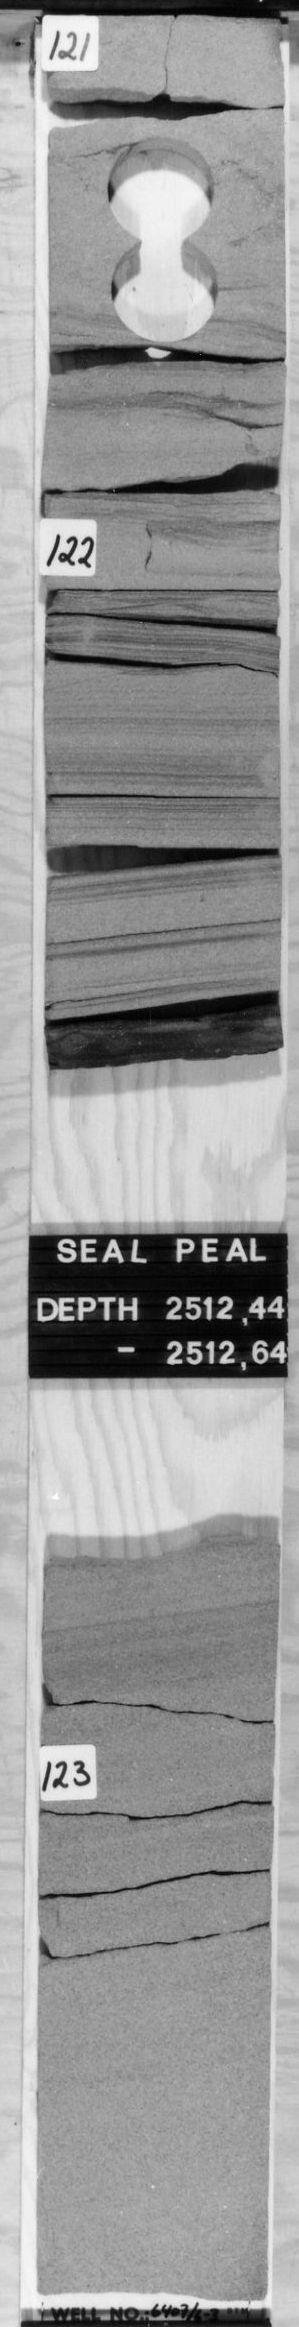hplug: (42, 83, 225, 132), (138, 515, 277, 577)
scal: (101, 137, 222, 240), (104, 243, 223, 344)
